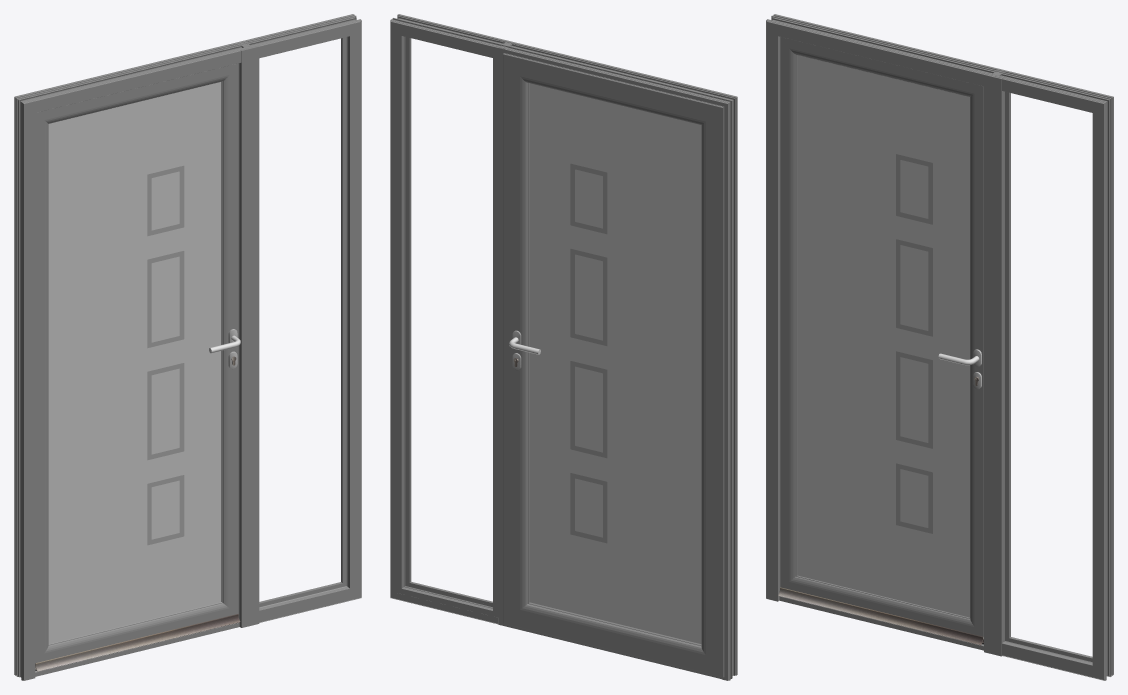
3 views of the same model, side by side, from view 1: azimuth 30°, elevation 25°; view 2: azimuth 150°, elevation 25°; view 3: azimuth 330°, elevation 25° (orthographic).
Parts seen in each view (by area): view 1: fosco_9, aroFixo, aroMovel, montanteCentral, transparente_9, bite, borracha, escovas, rodaPe; view 2: fosco_9, aroMovel, aroFixo, bite, transparente_9, montanteCentral, borracha, rodaPe; view 3: fosco_9, aroFixo, aroMovel, montanteCentral, transparente_9, bite, escovas, borracha, rodaPe.
Part boxes in pixels (x1,y1,x2,y2): fosco_9: (48, 82, 221, 643); aroFixo: (14, 14, 361, 680); aroMovel: (35, 63, 238, 663); montanteCentral: (238, 42, 259, 627); transparente_9: (147, 165, 184, 545); bite: (259, 37, 346, 607); borracha: (259, 37, 345, 606); escovas: (35, 614, 240, 671); rodaPe: (35, 622, 239, 676); fosco_9: (529, 83, 701, 644); aroMovel: (503, 53, 724, 677); aroFixo: (390, 14, 737, 680); bite: (396, 29, 498, 617); transparente_9: (570, 163, 607, 543); montanteCentral: (498, 40, 518, 626); borracha: (404, 36, 492, 608); rodaPe: (505, 624, 721, 679); fosco_9: (797, 55, 969, 617); aroFixo: (766, 14, 1113, 680); aroMovel: (780, 37, 983, 638); montanteCentral: (984, 70, 1004, 656); transparente_9: (896, 154, 932, 533); bite: (1005, 91, 1092, 661); escovas: (778, 587, 983, 645); borracha: (1006, 92, 1092, 660); rodaPe: (779, 596, 983, 650).
Size of the model in its own units: 1320 by 2149 by 185.
Materials: 10 (4 with a texture image).
